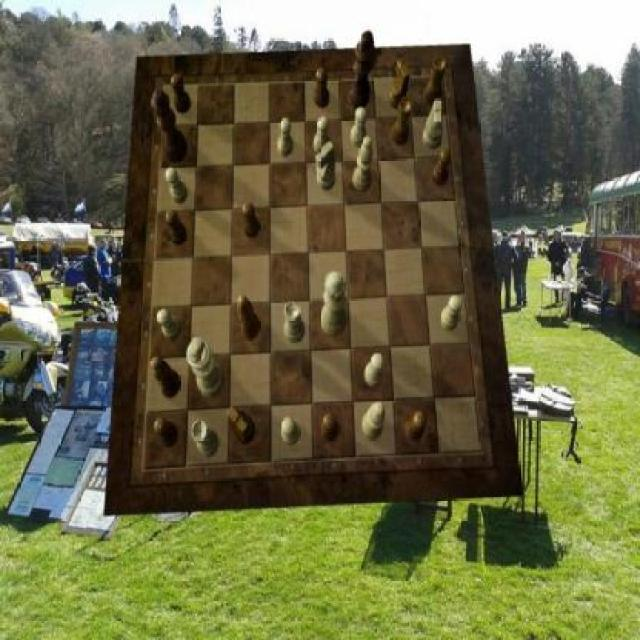bishop: (151, 355, 181, 398), (237, 294, 260, 339)
black-bishop: (348, 31, 374, 111)
black-king: (388, 59, 410, 110), (229, 406, 257, 445)
black-knight: (171, 74, 191, 114), (432, 148, 452, 186), (166, 210, 187, 246), (154, 417, 178, 448), (405, 411, 427, 443), (314, 68, 330, 108), (242, 202, 259, 238), (320, 414, 339, 444)
black-pawn: (150, 89, 188, 164)
black-queen: (423, 57, 447, 106), (391, 97, 412, 146)
black-rook: (354, 137, 374, 191), (363, 402, 386, 439)
white-bishop: (188, 338, 225, 398)
white-king: (423, 100, 443, 151), (317, 142, 337, 190)
white-knight: (165, 168, 188, 204), (440, 296, 462, 332), (157, 309, 181, 340), (350, 108, 368, 148), (364, 352, 384, 387), (314, 117, 331, 155), (277, 118, 293, 157), (282, 419, 300, 446)
white-pawn: (320, 271, 347, 336)
white-queen: (192, 420, 220, 458), (284, 301, 306, 344)
